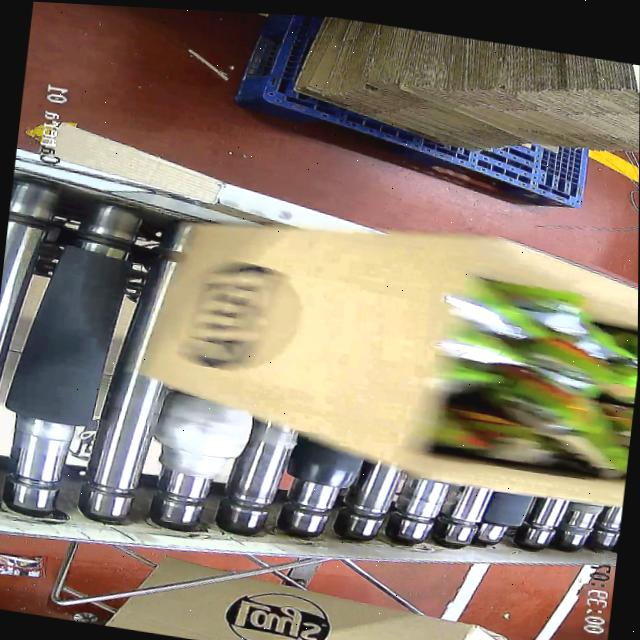YOGURT_HERB: (436, 255, 638, 485)
